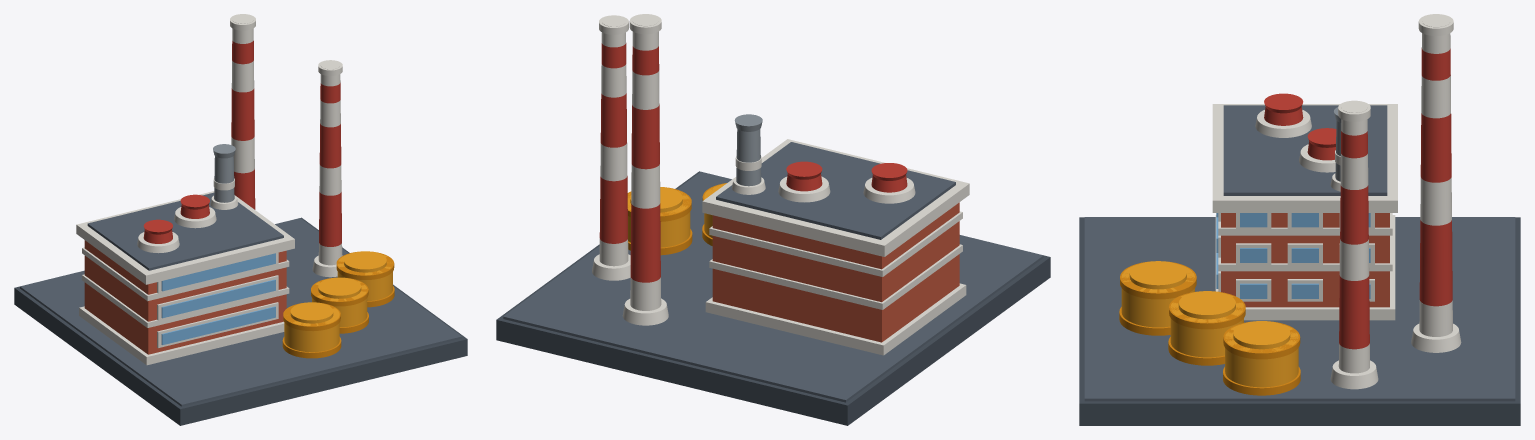
Rendered from chemical.glb.
3 views of the same model, side by side, from view 1: azimuth 30°, elevation 25°; view 2: azimuth 150°, elevation 25°; view 3: azimuth 270°, elevation 25° (orthographic). The views are drawn at different scales.
Parts seen in each view (by area): view 1: base_deck, base_slab, building_body, roof_deck, roof_cap, building_plinth, win_front_glass_1, win_front_glass_0, tank_1_body, floor_band_2, win_front_glass_2, floor_band_1 (+25 smaller); view 2: base_deck, building_body, base_slab, roof_deck, roof_cap, building_plinth, stack_tall_band_2, floor_band_2, floor_band_1, stack_short_band_2, stack_tall_band_4, stack_short_band_4 (+18 smaller); view 3: base_deck, base_slab, roof_deck, building_body, roof_cap, stack_tall_band_2, tank_3_body, building_plinth, stack_short_band_2, stack_tall_band_4, tank_2_body, tank_1_body (+37 smaller).
Boxes of the visible parts, x1,y1,x2,y2 form: base_deck: (20, 218, 461, 406); base_slab: (14, 217, 467, 425); building_body: (84, 240, 286, 354); roof_deck: (87, 192, 283, 270); roof_cap: (76, 191, 294, 284); building_plinth: (79, 306, 284, 365); win_front_glass_1: (161, 279, 275, 318); win_front_glass_0: (161, 306, 275, 345); tank_1_body: (284, 305, 339, 352); floor_band_2: (82, 247, 289, 301); win_front_glass_2: (161, 253, 275, 291); floor_band_1: (82, 274, 289, 327); base_deck: (503, 171, 1043, 402); building_body: (712, 202, 959, 342); base_slab: (496, 171, 1050, 425); roof_deck: (716, 142, 955, 239); roof_cap: (702, 139, 969, 256); building_plinth: (705, 283, 966, 355); stack_tall_band_2: (630, 203, 660, 282); floor_band_2: (709, 211, 962, 276); floor_band_1: (709, 244, 962, 309); stack_short_band_2: (599, 176, 627, 243); stack_tall_band_4: (631, 104, 659, 169); stack_short_band_4: (600, 93, 626, 147); base_deck: (1084, 217, 1515, 401); base_slab: (1079, 217, 1520, 425); roof_deck: (1223, 105, 1387, 195); building_body: (1221, 213, 1389, 307); roof_cap: (1212, 104, 1397, 212); stack_tall_band_2: (1419, 220, 1452, 306); tank_3_body: (1225, 324, 1298, 387); building_plinth: (1215, 215, 1395, 320); stack_short_band_2: (1339, 275, 1369, 349); stack_tall_band_4: (1420, 113, 1451, 182); tank_2_body: (1170, 294, 1243, 357); tank_1_body: (1121, 264, 1194, 327).
Bounding box in the file's own units: 1.62 × 1.4 × 1.62.
